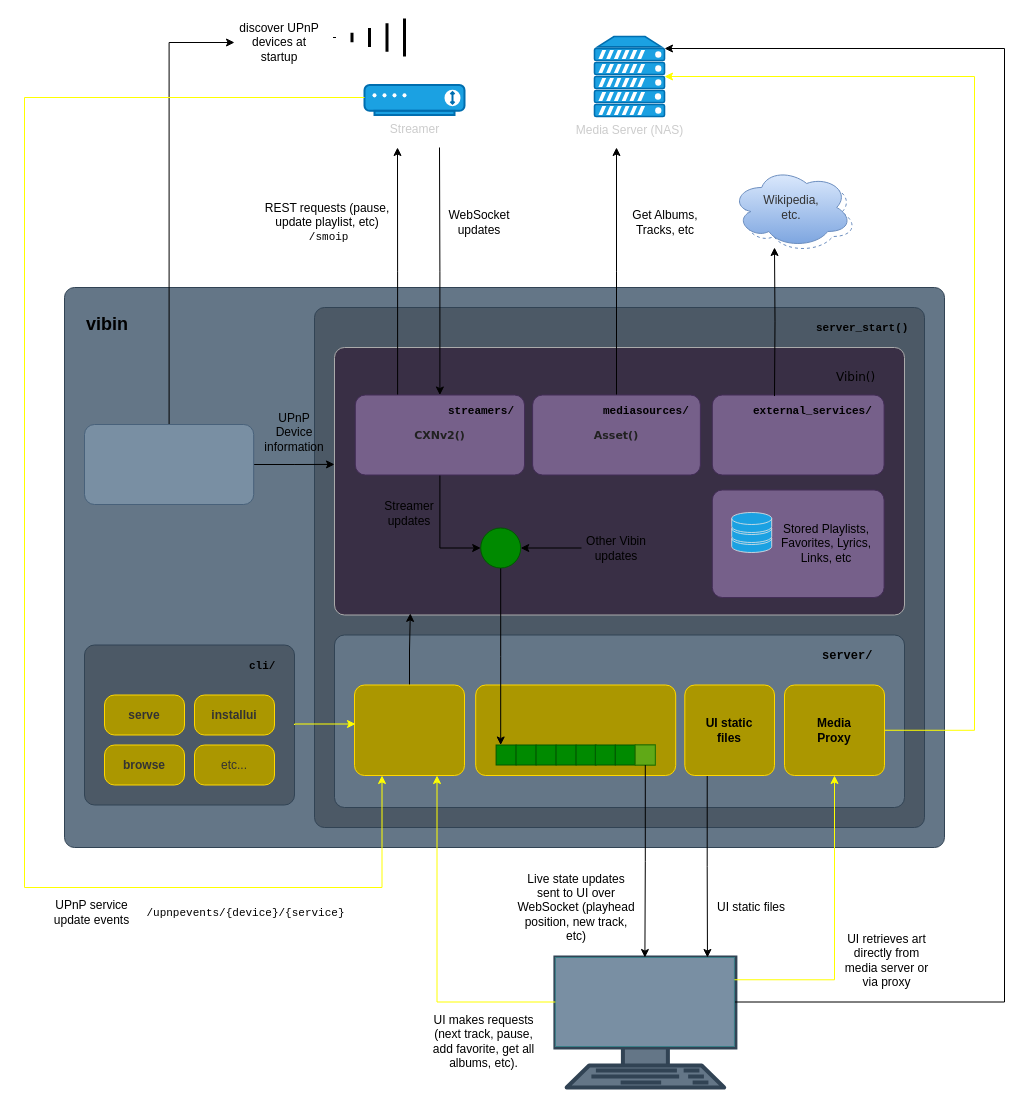
The diagram is 1030 pixels wide and 1106 high, and some of its shapes have lost their labels. The shapes that lost their labels are listed below. From the top down, each one's box as (x1, y1, x2, y2) in pixels, then its label:
(711, 394, 884, 475): Genius(), Wikipedia() ...
(84, 424, 254, 504): device_resolution.py
(730, 511, 772, 553): TinyDB
(354, 684, 464, 776): REST API
(475, 684, 676, 776): WebSocket Server
(554, 956, 734, 1046): vibinui running in browser
